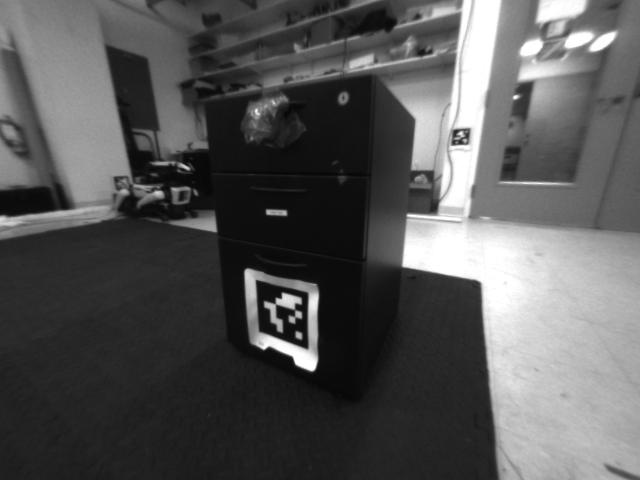door_handle: (590, 91, 627, 115)
drawer: (225, 85, 307, 150)
